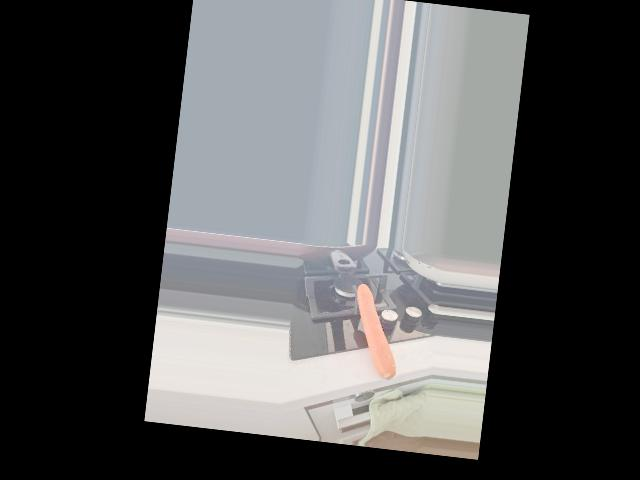carrot: (345, 283, 403, 381)
